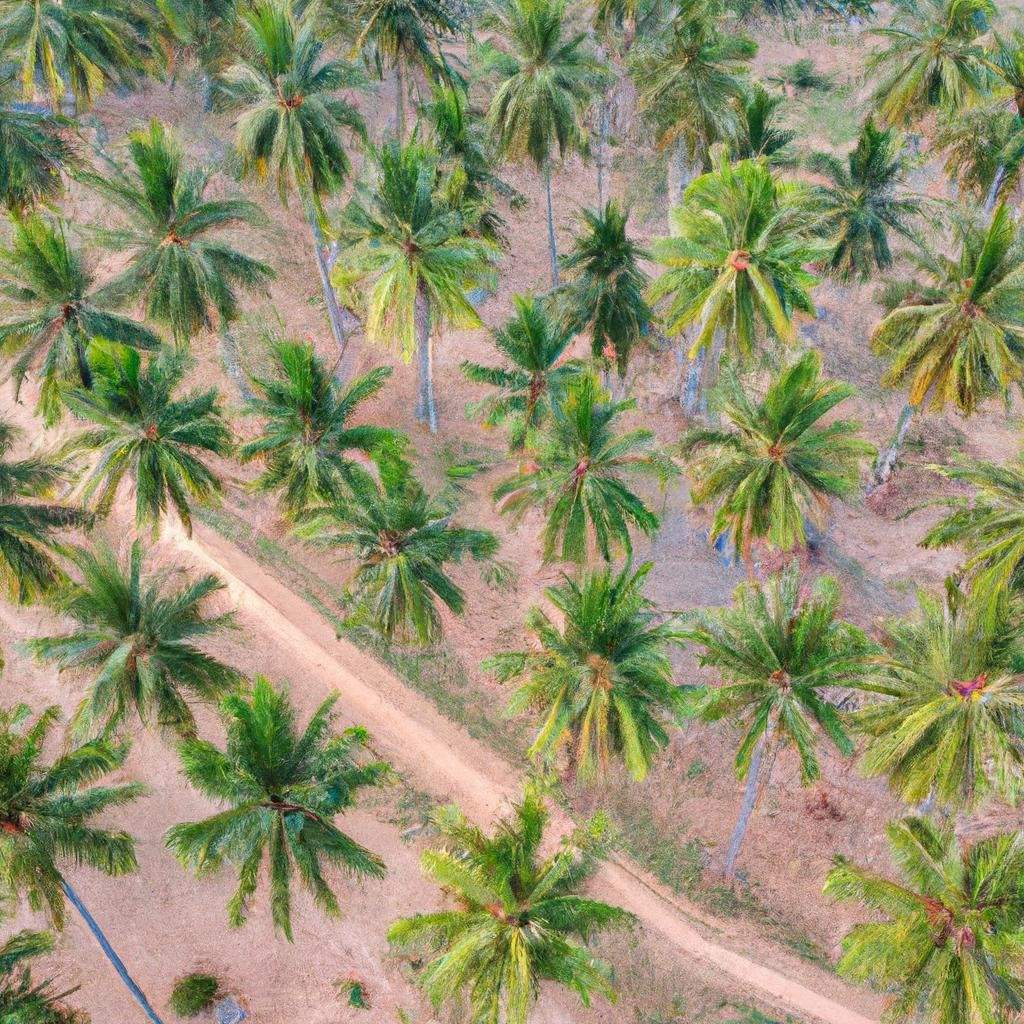coconut_tree: (157, 685, 408, 942), (479, 551, 717, 805), (412, 783, 641, 1021), (682, 534, 892, 789), (805, 793, 1023, 1023), (316, 134, 527, 355), (690, 358, 909, 564), (303, 447, 508, 659), (33, 339, 249, 526), (81, 105, 263, 321), (655, 167, 863, 347), (193, 0, 371, 199), (852, 208, 1023, 415), (225, 342, 414, 526), (0, 197, 165, 369)
